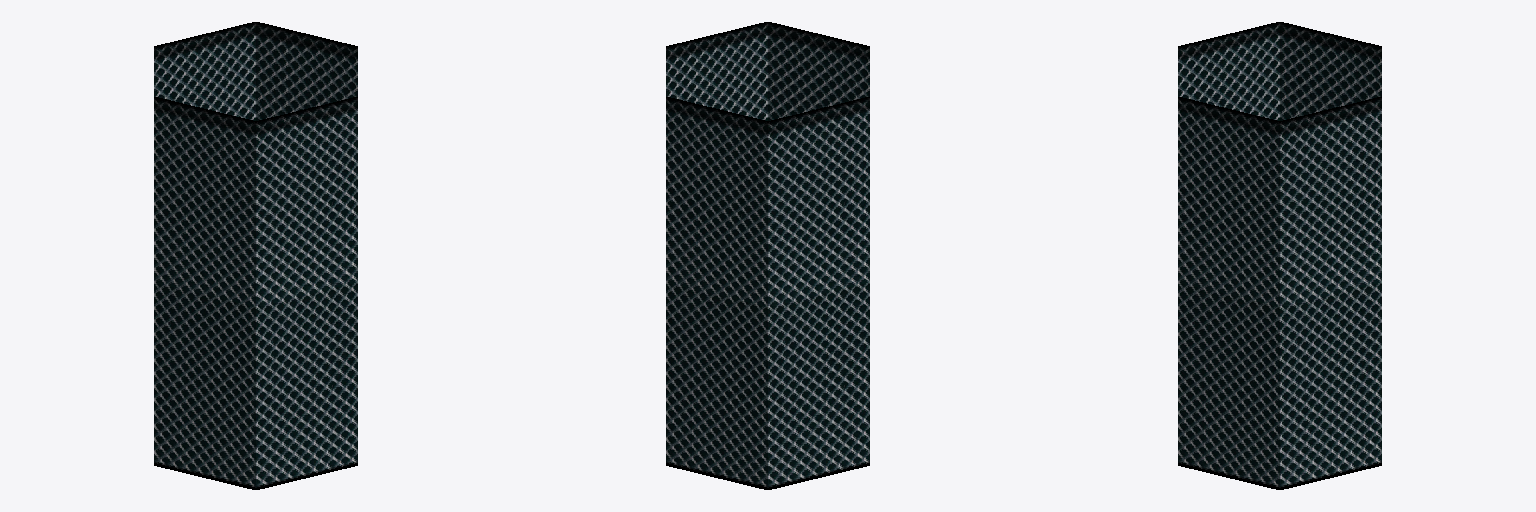
The picture shows the model from 3 angles: view 1: azimuth 30°, elevation 25°; view 2: azimuth 150°, elevation 25°; view 3: azimuth 270°, elevation 25°; orthographic projection.
Visible parts, largest first — view 1: trashCan_4_v1; view 2: trashCan_4_v1; view 3: trashCan_4_v1.
Part boxes in pixels (left/top/right/bottom): trashCan_4_v1: left=154, top=22, right=357, bottom=489; trashCan_4_v1: left=666, top=22, right=869, bottom=489; trashCan_4_v1: left=1178, top=22, right=1381, bottom=489.
Bounding box in the file's own units: 0.7716 × 1.33 × 0.6682.
Materials: 1 (1 with a texture image).